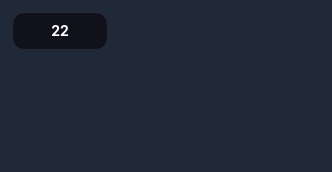
it: numeric settings editing › allows clearing an input without saving an invalid port, then commits a bounded integer
This screenshot has width=332, height=172.
Clear the number field at {"x": 60, "y": 31}, box [12,12,108,50]
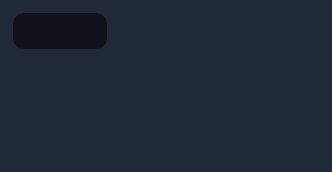
Leave the number field, box [12,12,108,50]
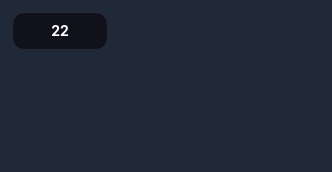
Check: the number field holds "22"
Replace the text in the number field with "65536" at {"x": 60, "y": 31}, box [12,12,108,50]
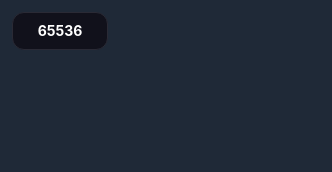
Press Enter in the number field, box [12,12,108,50]
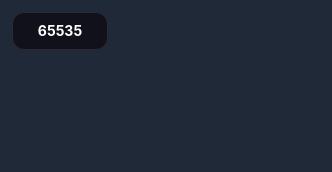
Check: the number field holds "65535", box [12,12,108,50]
